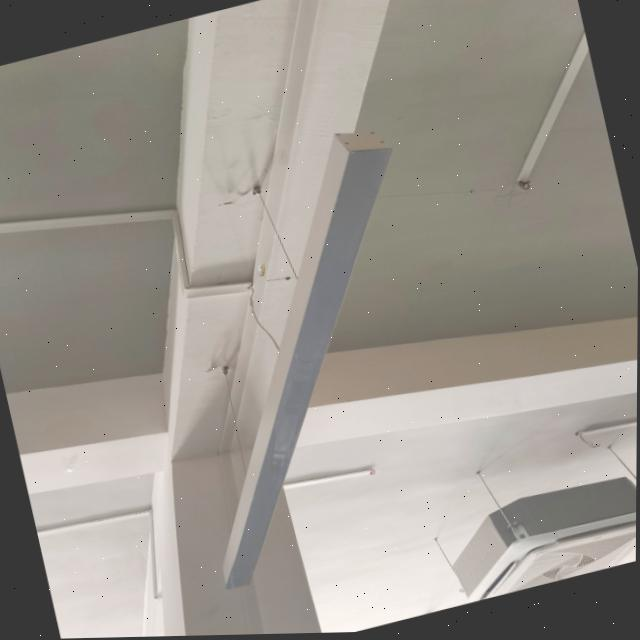light_off: (121, 115, 489, 602)
